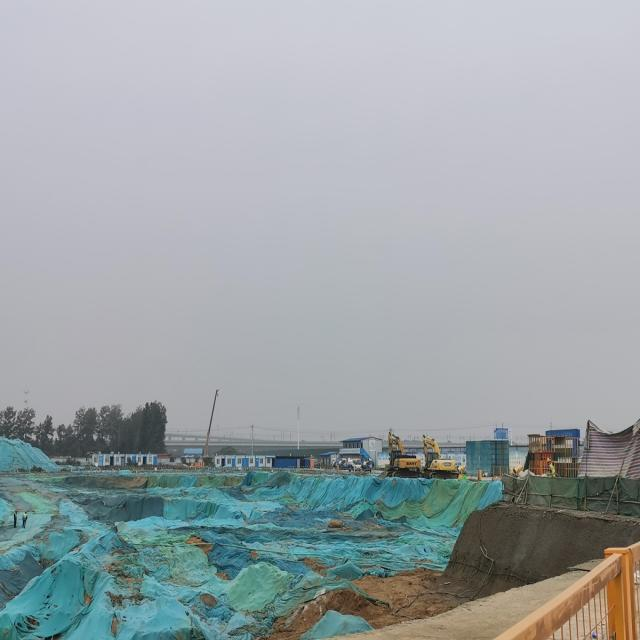crane: (204, 388, 219, 456)
excavator: (385, 431, 423, 477), (420, 434, 458, 478)
